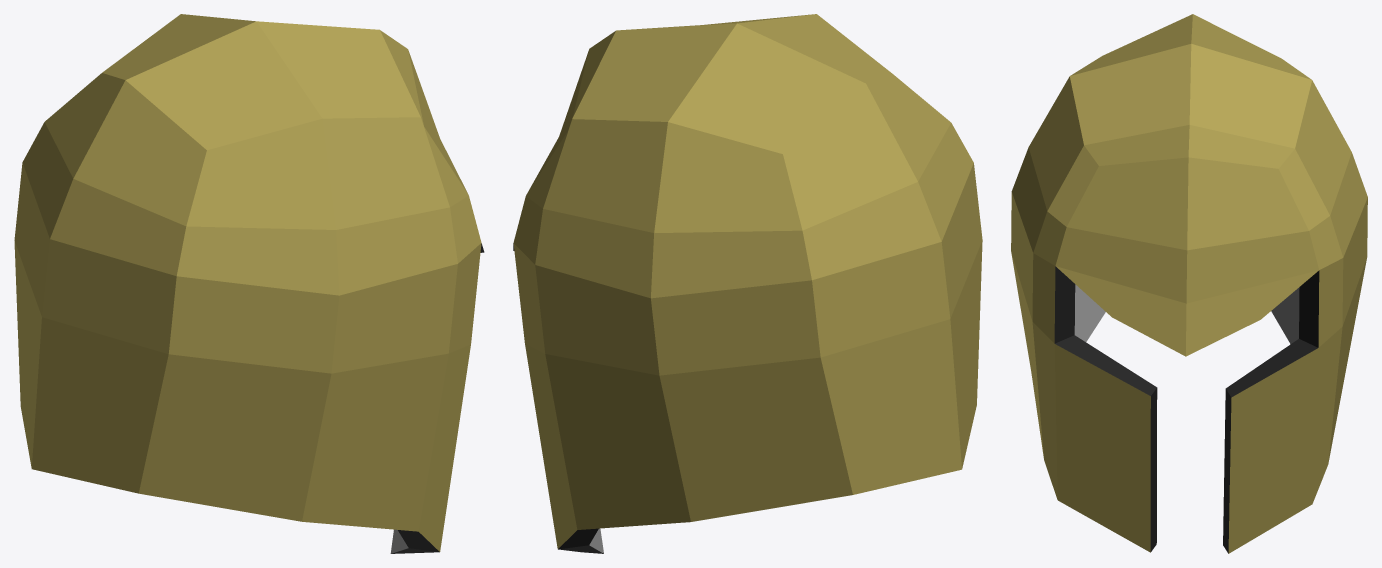
The model's file is Helmet.fbx.
The picture shows the model from 3 angles, left to right: view 1: azimuth 30°, elevation 25°; view 2: azimuth 150°, elevation 25°; view 3: azimuth 270°, elevation 25°; orthographic projection. The views are drawn at different scales.
Visible parts, largest first — view 1: Cube.003; view 2: Cube.003; view 3: Cube.003.
Part boxes in pixels (x1,y1,x2,y2): Cube.003: (14, 14, 484, 553); Cube.003: (513, 14, 982, 553); Cube.003: (1011, 14, 1367, 553).
Size of the model in its own units: 46.06 by 57.16 by 40.57.
